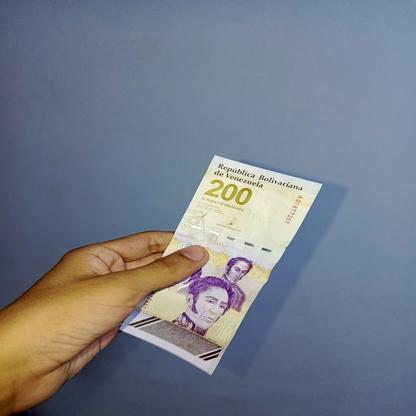two_hundred-front-vef: (118, 152, 323, 378)
